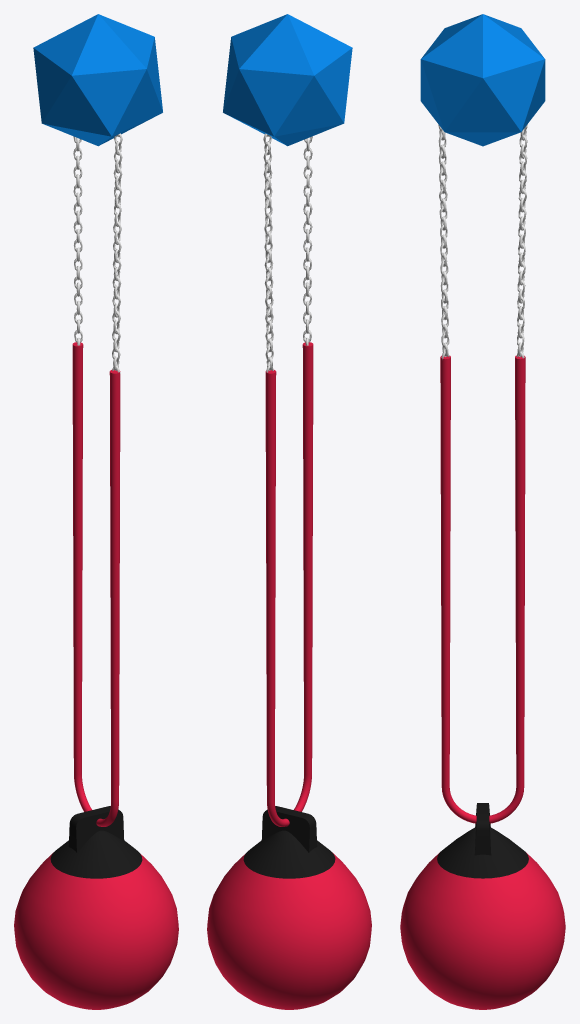
Rendered from Ball swing.glb.
3 views of the same model, side by side, from view 1: azimuth 30°, elevation 25°; view 2: azimuth 150°, elevation 25°; view 3: azimuth 270°, elevation 25° (orthographic).
Visible parts, largest first — view 1: Sphere, Joint.019, Torus.007, Torus.008, Cube.108; view 2: Sphere, Joint.019, Torus.007, Torus.008, Cube.108; view 3: Sphere, Joint.019, Torus.007, Torus.008, Cube.108.
Boxes of the visible parts, x1=… form: Sphere: x1=14, y1=830, x2=178, y2=1009; Joint.019: x1=33, y1=14, x2=162, y2=146; Torus.007: x1=72, y1=342, x2=120, y2=826; Torus.008: x1=73, y1=133, x2=122, y2=373; Cube.108: x1=68, y1=806, x2=124, y2=852; Sphere: x1=207, y1=830, x2=371, y2=1009; Joint.019: x1=223, y1=14, x2=352, y2=146; Torus.007: x1=265, y1=342, x2=313, y2=826; Torus.008: x1=263, y1=133, x2=312, y2=372; Cube.108: x1=261, y1=806, x2=317, y2=852; Sphere: x1=400, y1=827, x2=565, y2=1009; Joint.019: x1=420, y1=14, x2=545, y2=146; Torus.007: x1=440, y1=355, x2=525, y2=823; Torus.008: x1=438, y1=124, x2=527, y2=359; Cube.108: x1=474, y1=803, x2=491, y2=855.
Bounding box in the file's own units: 0.3452 × 2.28 × 0.3452.
